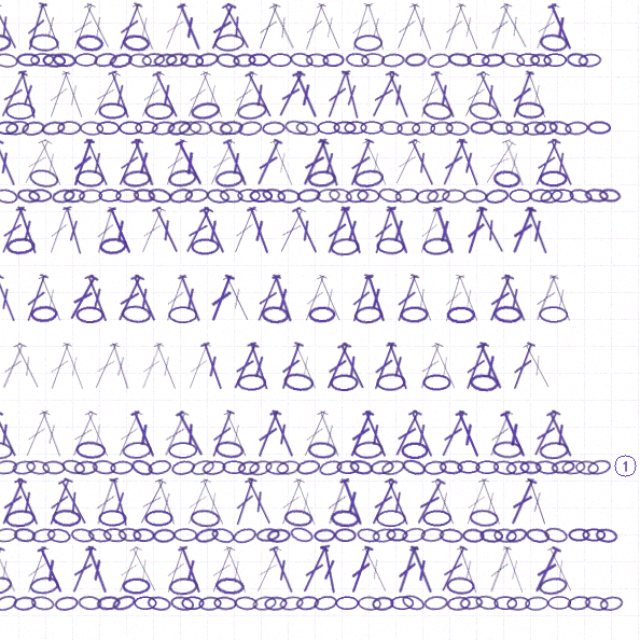chain: (59, 184, 88, 205), (16, 562, 45, 583), (252, 122, 282, 142), (424, 122, 454, 142), (467, 122, 497, 142), (209, 122, 238, 142), (532, 563, 561, 583), (360, 185, 390, 204), (295, 374, 325, 393), (188, 185, 217, 204), (145, 311, 174, 330), (533, 59, 561, 78), (232, 437, 260, 456), (60, 563, 88, 582), (37, 501, 66, 519), (209, 501, 238, 519), (146, 186, 174, 204), (232, 186, 260, 204), (318, 186, 346, 204), (339, 249, 367, 267), (361, 312, 389, 330), (468, 375, 496, 393), (17, 438, 45, 456), (146, 438, 174, 456), (318, 438, 346, 456), (533, 438, 561, 456), (296, 501, 324, 519), (339, 501, 367, 519), (468, 501, 496, 519), (189, 564, 217, 582), (232, 564, 260, 582), (103, 60, 130, 78), (146, 60, 173, 78), (490, 186, 517, 204), (275, 312, 302, 330), (153, 453, 177, 473), (60, 60, 88, 77), (232, 60, 260, 77), (511, 123, 539, 140), (38, 249, 66, 266), (490, 312, 518, 329), (382, 375, 410, 392), (103, 438, 131, 455), (361, 438, 389, 455), (490, 438, 518, 455), (26, 579, 51, 598), (404, 579, 429, 598), (103, 186, 130, 203), (382, 249, 409, 266), (425, 249, 452, 266), (81, 501, 108, 518), (447, 564, 474, 581), (405, 453, 429, 472), (301, 516, 325, 535), (136, 579, 160, 598), (38, 124, 66, 140), (382, 502, 410, 518), (18, 60, 44, 77), (125, 249, 151, 266), (61, 312, 87, 329), (361, 61, 388, 77), (133, 76, 157, 94), (124, 124, 151, 140), (167, 124, 194, 140), (541, 139, 565, 157), (533, 187, 560, 203), (533, 202, 557, 220), (210, 250, 237, 266), (103, 313, 130, 329), (189, 313, 216, 329), (404, 313, 431, 329), (447, 313, 474, 329), (533, 313, 560, 329), (253, 376, 280, 392), (339, 376, 366, 392), (425, 376, 452, 392), (189, 439, 216, 455), (209, 454, 233, 472), (263, 454, 287, 472), (328, 454, 352, 472), (386, 454, 410, 472), (124, 502, 151, 518), (167, 502, 194, 518), (425, 502, 452, 518), (213, 517, 237, 535), (228, 517, 252, 535), (248, 517, 272, 535), (146, 565, 173, 581), (319, 313, 345, 329), (405, 439, 431, 455), (501, 517, 524, 535), (119, 76, 143, 93), (213, 76, 237, 93), (301, 76, 325, 93), (497, 76, 521, 93), (37, 139, 61, 156), (187, 139, 211, 156), (296, 139, 320, 156), (169, 202, 193, 219), (189, 202, 213, 219), (275, 202, 299, 219), (337, 202, 361, 219), (383, 202, 407, 219), (428, 202, 452, 219), (89, 454, 113, 471), (169, 454, 193, 471), (307, 454, 331, 471), (356, 454, 380, 471), (577, 454, 601, 471), (405, 517, 429, 534), (537, 517, 561, 534), (323, 580, 347, 597), (473, 580, 497, 597), (52, 140, 76, 156), (253, 140, 277, 156), (80, 203, 104, 219), (482, 203, 506, 219), (560, 203, 584, 219), (56, 455, 80, 471), (191, 455, 215, 471), (363, 518, 387, 534), (520, 518, 544, 534), (190, 581, 214, 597), (27, 77, 50, 93), (175, 77, 198, 93), (233, 77, 256, 93), (429, 77, 452, 93), (71, 140, 94, 156), (173, 140, 196, 156), (198, 140, 221, 156), (226, 140, 249, 156), (307, 140, 330, 156), (27, 203, 50, 219), (48, 203, 71, 219), (224, 203, 247, 219), (418, 203, 441, 219), (44, 455, 67, 471), (220, 455, 243, 471), (289, 455, 312, 471), (490, 455, 513, 471), (529, 455, 552, 471), (62, 518, 85, 534), (76, 518, 99, 534), (98, 518, 121, 534), (114, 518, 137, 534), (378, 518, 401, 534), (61, 581, 84, 597), (83, 581, 106, 597), (169, 581, 192, 597), (267, 581, 290, 597), (292, 581, 315, 597), (575, 581, 598, 597), (589, 581, 612, 597), (253, 455, 275, 471), (585, 518, 607, 534), (81, 77, 104, 92), (164, 77, 187, 92), (186, 77, 209, 92), (353, 77, 376, 92), (448, 77, 471, 92), (208, 140, 231, 155), (236, 140, 259, 155), (487, 140, 510, 155), (528, 140, 551, 155), (204, 203, 227, 218), (236, 203, 259, 218), (308, 203, 331, 218), (326, 203, 349, 218), (353, 203, 376, 218), (399, 203, 422, 218), (575, 203, 598, 218), (27, 455, 50, 470), (118, 455, 141, 470), (376, 455, 399, 470), (440, 455, 463, 470), (544, 455, 567, 470), (554, 455, 577, 470), (27, 518, 50, 533), (128, 518, 151, 533), (142, 518, 165, 533), (270, 518, 293, 533), (423, 518, 446, 533), (105, 581, 128, 596), (122, 581, 145, 596), (307, 581, 330, 596), (426, 581, 449, 596), (459, 581, 482, 596), (559, 581, 582, 596), (408, 77, 430, 92), (558, 77, 580, 92), (91, 203, 113, 218), (156, 203, 178, 218), (588, 203, 610, 218), (45, 518, 67, 533), (316, 78, 339, 92), (386, 78, 409, 92), (479, 78, 502, 92), (569, 78, 592, 92), (446, 141, 469, 155), (101, 456, 124, 470), (502, 456, 525, 470), (280, 519, 303, 533), (440, 519, 463, 533), (250, 582, 273, 596), (447, 582, 470, 596), (72, 78, 94, 92), (152, 78, 174, 92), (200, 78, 222, 92), (249, 78, 271, 92), (524, 78, 546, 92), (107, 141, 129, 155), (276, 141, 298, 155), (401, 141, 423, 155), (415, 141, 437, 155), (432, 141, 454, 155), (502, 141, 524, 155), (518, 141, 540, 155), (557, 141, 579, 155), (106, 204, 128, 218), (290, 204, 312, 218), (443, 204, 465, 218), (463, 204, 485, 218), (72, 456, 94, 470), (135, 456, 157, 470), (279, 456, 301, 470), (426, 456, 448, 470), (567, 456, 589, 470), (478, 519, 500, 533), (491, 519, 513, 533), (45, 582, 67, 596), (217, 582, 239, 596), (231, 582, 253, 596), (278, 582, 300, 596), (365, 582, 387, 596), (503, 582, 525, 596), (520, 582, 542, 596), (515, 456, 536, 470), (175, 519, 196, 533), (324, 519, 345, 533), (462, 519, 483, 533), (378, 582, 399, 596), (48, 78, 70, 91), (61, 78, 83, 91), (102, 78, 124, 91), (282, 78, 304, 91), (368, 78, 390, 91), (466, 78, 488, 91), (512, 78, 534, 91), (537, 78, 559, 91), (28, 141, 50, 154), (86, 141, 108, 154), (122, 141, 144, 154), (143, 141, 165, 154), (158, 141, 180, 154), (327, 141, 349, 154), (342, 141, 364, 154), (352, 141, 374, 154), (367, 141, 389, 154), (385, 141, 407, 154), (469, 141, 491, 154), (578, 141, 600, 154), (59, 204, 81, 217), (124, 204, 146, 217), (140, 204, 162, 217), (253, 204, 275, 217), (264, 204, 286, 217), (364, 204, 386, 217), (505, 204, 527, 217), (524, 204, 546, 217), (544, 204, 566, 217), (239, 456, 261, 469), (345, 456, 367, 469), (457, 456, 479, 469), (474, 456, 496, 469), (194, 519, 216, 532), (573, 519, 595, 532), (157, 582, 179, 595), (201, 582, 223, 595), (344, 582, 366, 595), (395, 582, 417, 595), (491, 582, 513, 595), (541, 582, 563, 595), (263, 78, 284, 91), (332, 78, 353, 91), (156, 519, 177, 532), (343, 519, 364, 532), (391, 519, 412, 532), (560, 519, 581, 532)
double: (478, 157, 515, 203), (192, 156, 227, 204), (199, 219, 234, 267), (84, 471, 119, 519), (156, 471, 191, 519), (414, 471, 449, 519), (92, 282, 127, 329), (279, 30, 313, 78), (28, 93, 62, 141), (257, 93, 291, 141), (372, 93, 406, 141), (286, 219, 320, 267), (136, 282, 170, 330), (236, 282, 270, 330), (343, 345, 377, 393), (523, 534, 557, 582), (107, 30, 141, 77), (236, 30, 270, 77), (494, 30, 528, 77), (114, 93, 148, 140), (50, 156, 84, 203), (472, 219, 506, 266), (515, 345, 549, 392), (193, 408, 227, 455), (150, 534, 184, 581), (171, 93, 204, 141), (458, 93, 491, 141), (472, 93, 505, 141), (222, 156, 255, 204), (308, 156, 341, 204), (472, 345, 505, 393), (21, 408, 54, 456), (179, 408, 212, 456), (437, 408, 470, 456), (494, 408, 527, 456), (537, 408, 570, 456), (372, 471, 405, 519), (501, 471, 534, 519), (21, 534, 54, 582), (64, 534, 97, 582), (265, 534, 298, 582), (308, 534, 341, 582), (21, 30, 54, 77), (286, 93, 319, 140), (394, 156, 427, 203), (171, 219, 204, 266), (42, 345, 75, 392), (394, 408, 427, 455), (523, 408, 556, 455), (257, 471, 290, 518), (365, 534, 398, 581), (437, 534, 470, 581), (537, 534, 570, 581), (223, 30, 255, 78), (323, 30, 355, 78), (524, 30, 556, 78), (301, 93, 333, 141), (137, 156, 169, 204), (266, 156, 298, 204), (366, 156, 398, 204), (409, 156, 441, 204), (438, 156, 470, 204), (524, 156, 556, 204), (538, 156, 570, 204), (129, 219, 161, 267), (158, 219, 190, 267), (215, 219, 247, 267), (301, 219, 333, 267), (502, 219, 534, 267), (8, 282, 40, 330), (151, 282, 183, 330), (323, 282, 355, 330), (481, 282, 513, 330), (495, 282, 527, 330), (29, 345, 61, 393), (115, 345, 147, 393), (244, 345, 276, 393), (301, 345, 333, 393), (330, 345, 362, 393), (430, 345, 462, 393), (94, 408, 126, 456), (108, 408, 140, 456), (309, 408, 341, 456), (452, 408, 484, 456), (481, 408, 513, 456), (29, 471, 61, 519), (72, 471, 104, 519), (215, 471, 247, 519), (287, 471, 319, 519), (8, 534, 40, 582), (94, 534, 126, 582), (94, 30, 125, 78), (180, 30, 211, 78), (194, 30, 225, 78), (395, 30, 426, 78), (538, 30, 569, 78), (158, 93, 189, 141), (201, 93, 232, 141), (215, 93, 246, 141), (244, 93, 275, 141), (430, 93, 461, 141), (8, 156, 39, 204), (22, 156, 53, 204), (65, 156, 96, 204), (108, 156, 139, 204), (151, 156, 182, 204), (237, 156, 268, 204), (280, 156, 311, 204), (352, 156, 383, 204), (495, 156, 526, 204), (29, 219, 60, 267), (244, 219, 275, 267), (65, 282, 96, 330), (108, 282, 139, 330), (223, 282, 254, 330), (266, 282, 297, 330), (524, 282, 555, 330), (158, 345, 189, 393), (172, 345, 203, 393), (459, 345, 490, 393), (8, 408, 39, 456), (51, 408, 82, 456), (137, 408, 168, 456), (151, 408, 182, 456), (237, 408, 268, 456), (266, 408, 297, 456), (280, 408, 311, 456), (352, 408, 383, 456), (366, 408, 397, 456), (409, 408, 440, 456), (43, 471, 74, 519), (201, 471, 232, 519), (387, 471, 418, 519), (430, 471, 461, 519), (473, 471, 504, 519), (137, 534, 168, 582), (223, 534, 254, 582), (237, 534, 268, 582), (280, 534, 311, 582), (481, 534, 512, 582), (138, 30, 168, 78), (152, 30, 182, 78), (267, 30, 297, 78), (410, 30, 440, 78), (439, 30, 469, 78), (453, 30, 483, 78), (482, 30, 512, 78), (331, 93, 361, 141), (388, 93, 418, 141), (417, 93, 447, 141), (453, 156, 483, 204), (331, 219, 361, 267), (388, 219, 418, 267), (517, 219, 547, 267), (23, 282, 53, 330), (195, 282, 225, 330), (310, 282, 340, 330), (410, 282, 440, 330), (453, 282, 483, 330), (539, 282, 569, 330), (73, 345, 103, 393), (87, 345, 117, 393), (202, 345, 232, 393), (288, 345, 318, 393), (374, 345, 404, 393), (417, 345, 447, 393), (503, 345, 533, 393), (66, 408, 96, 456), (224, 408, 254, 456), (324, 408, 354, 456), (116, 471, 146, 519), (302, 471, 332, 519), (331, 471, 361, 519), (345, 471, 375, 519), (460, 471, 490, 519), (52, 534, 82, 582), (195, 534, 225, 582), (353, 534, 383, 582), (410, 534, 440, 582), (66, 30, 95, 78), (310, 30, 339, 78), (73, 93, 102, 141), (87, 93, 116, 141), (130, 93, 159, 141), (503, 93, 532, 141), (517, 93, 546, 141), (95, 156, 124, 204), (181, 156, 210, 204), (44, 219, 73, 267), (73, 219, 102, 267), (259, 219, 288, 267), (417, 219, 446, 267), (52, 282, 81, 330), (181, 282, 210, 330), (396, 282, 425, 330), (216, 345, 245, 393), (259, 345, 288, 393), (388, 345, 417, 393), (173, 471, 202, 519), (517, 471, 546, 519), (109, 534, 138, 582), (453, 534, 482, 582), (496, 534, 525, 582), (10, 30, 38, 78), (368, 30, 396, 78), (325, 156, 353, 204), (346, 219, 374, 267), (375, 219, 403, 267), (432, 219, 460, 267), (282, 282, 310, 330), (354, 282, 382, 330), (368, 282, 396, 330), (131, 345, 159, 393), (246, 471, 274, 519), (182, 534, 210, 582), (397, 534, 425, 582), (53, 30, 80, 78), (354, 30, 381, 78), (88, 219, 115, 267), (117, 219, 144, 267), (461, 219, 488, 267), (440, 282, 467, 330), (46, 93, 72, 141), (347, 93, 372, 141), (132, 471, 157, 519), (327, 534, 350, 581)
noise: (601, 449, 626, 474)
